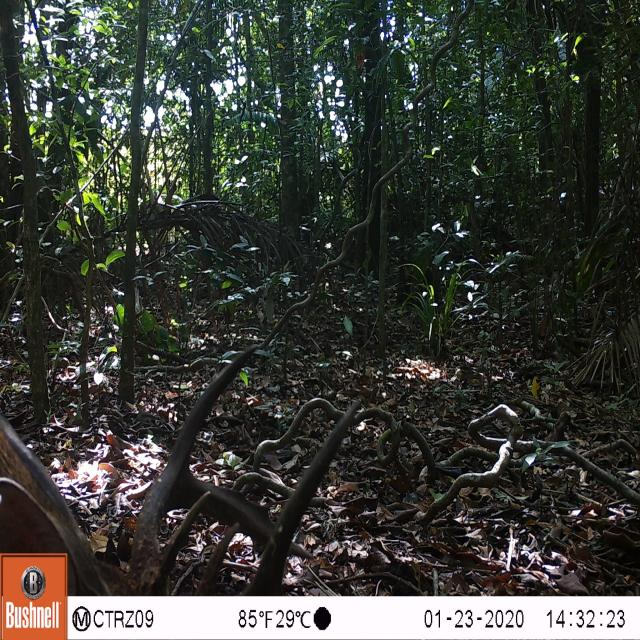White-tailed Deer: (0, 343, 358, 592)
